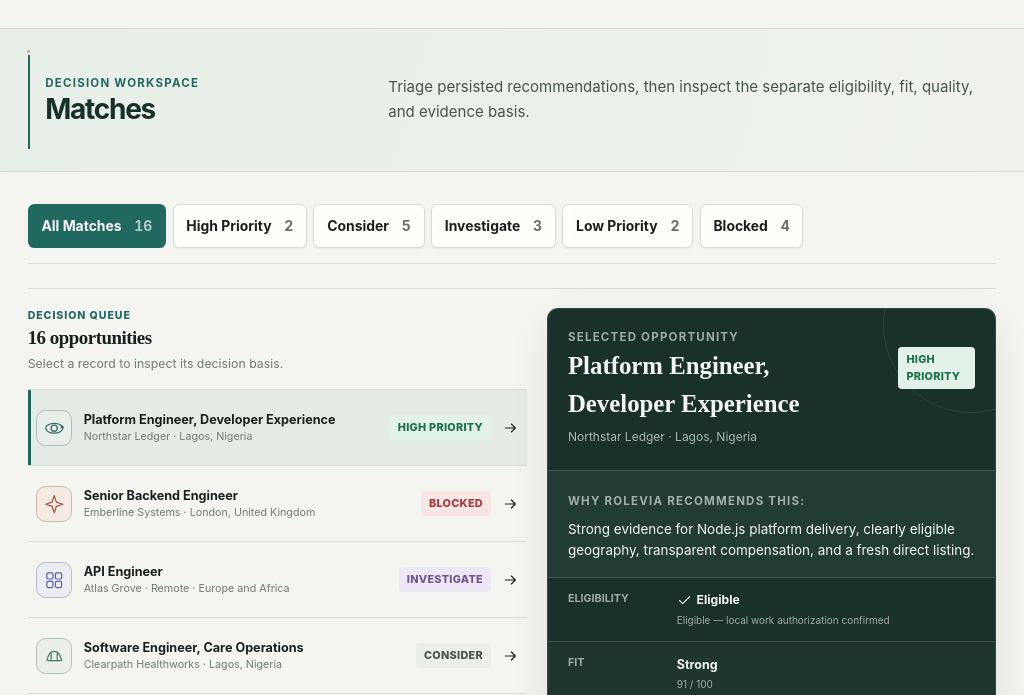
Matches › preserves canonical recommendation states and exposes separate evaluation values
Expected: the heading "Matches" is shown, [45,92,155,126]
Expected: the button "High Priority 2" is shown, [172,204,307,248]
Click the button "Blocked 4": (752, 226) [700,204,804,248]
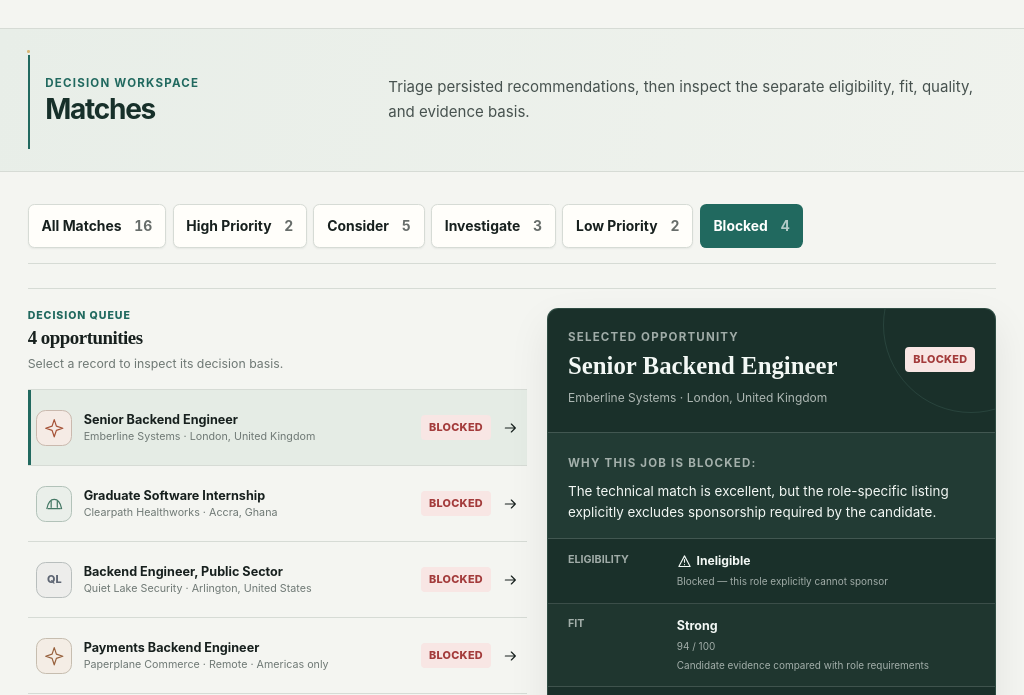
Now the text "Why this job is blocked:" is shown, box [568,456,757,470]
Now the text "explicitly excludes sponsorship" is shown, box [568,483,949,520]
Click the button "Investigate 3": (493, 226) [431,204,556,248]
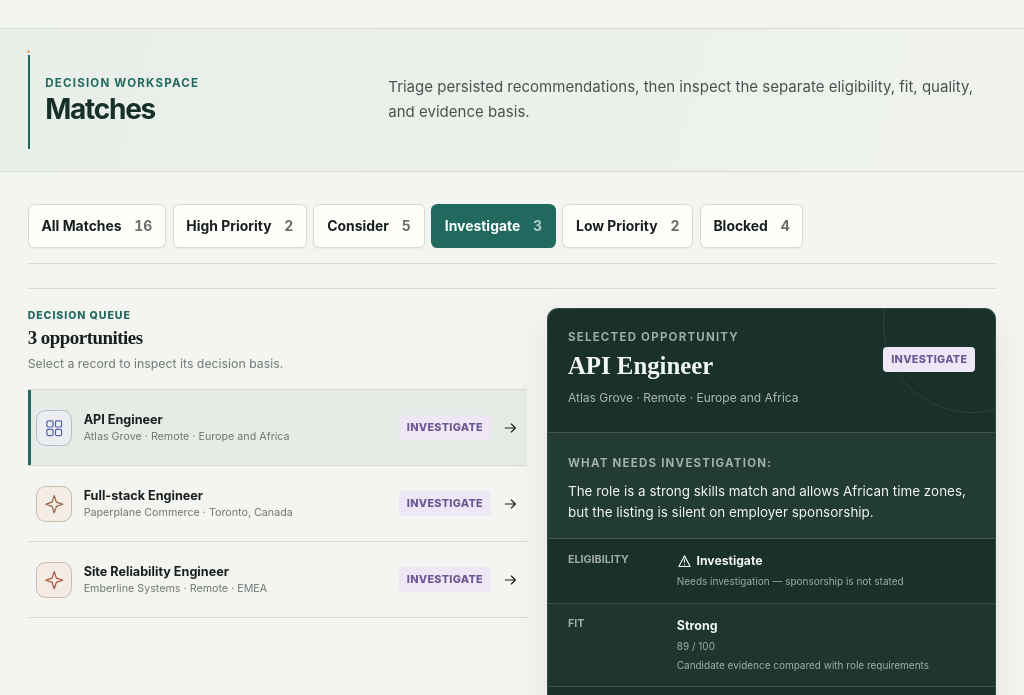
Now the text "What needs investigation:" is shown, box [568,456,772,470]
Now the text "silent on employer sponsorship" is shown, box [568,483,966,520]
